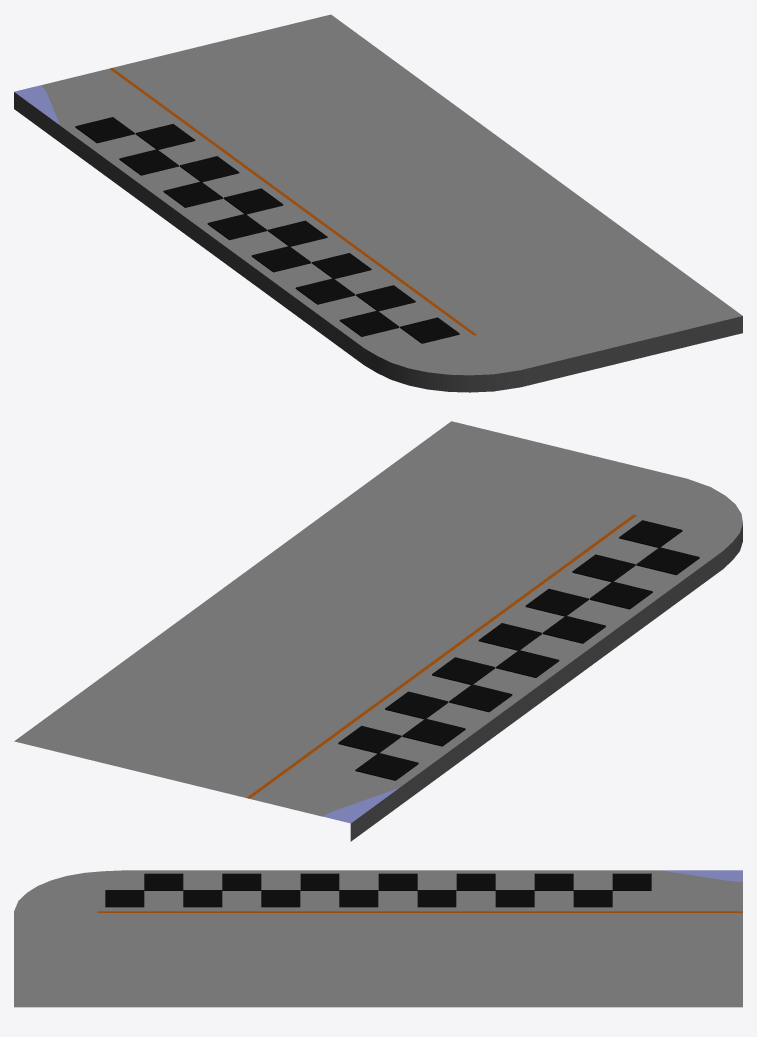
File: W_M_maze_003_4x9_BottomConner_b_L0.fbx
The picture shows the model from 3 angles, top to bottom: view 1: azimuth 30°, elevation 25°; view 2: azimuth 150°, elevation 25°; view 3: azimuth 270°, elevation 25°; orthographic projection. The views are drawn at different scales.
Parts seen in each view (by area): view 1: W_M_maze_003_4x9_BottomConner_b_L0; view 2: W_M_maze_003_4x9_BottomConner_b_L0; view 3: W_M_maze_003_4x9_BottomConner_b_L0.
Boxes of the visible parts, left/top/right/bottom form: W_M_maze_003_4x9_BottomConner_b_L0: left=14, top=14, right=742, bottom=392; W_M_maze_003_4x9_BottomConner_b_L0: left=14, top=421, right=742, bottom=841; W_M_maze_003_4x9_BottomConner_b_L0: left=14, top=870, right=742, bottom=1007.
Size of the model in its own units: 4 by 0.2237 by 9.
